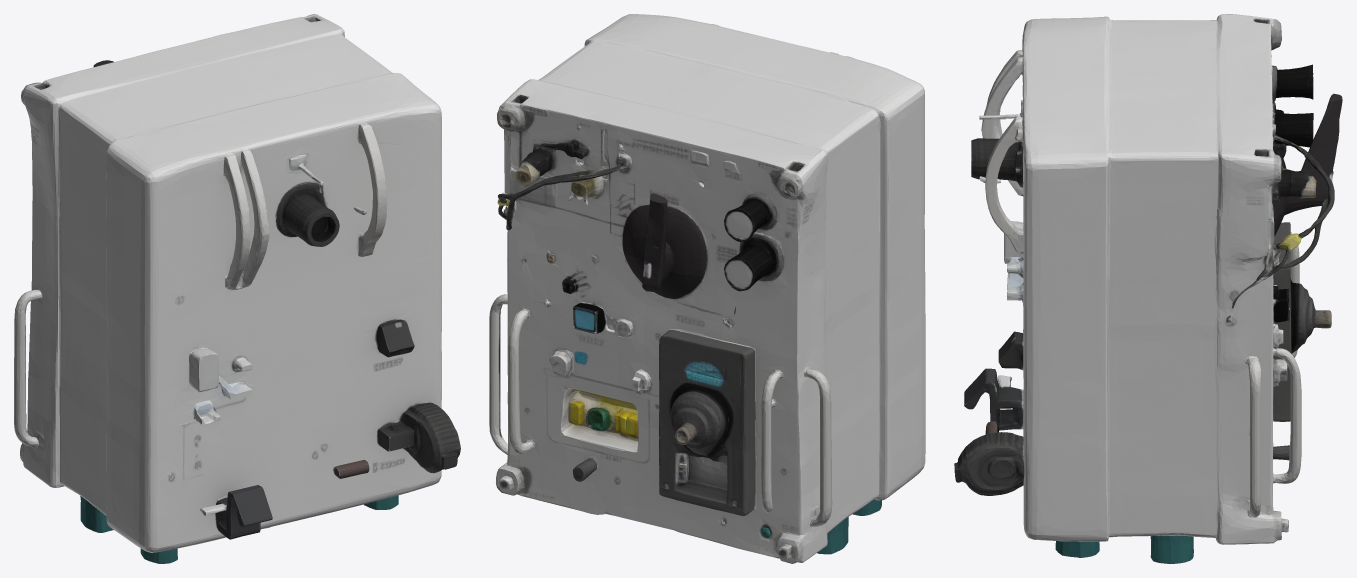
The model's file is WaterDispenser.glb.
The picture shows the model from 3 angles, left to right: view 1: azimuth 30°, elevation 25°; view 2: azimuth 150°, elevation 25°; view 3: azimuth 270°, elevation 25°; orthographic projection.
Parts seen in each view (by area): view 1: world; view 2: world; view 3: world.
Boxes of the visible parts, x1=… form: world: x1=14, y1=14, x2=460, y2=563; world: x1=489, y1=14, x2=925, y2=563; world: x1=954, y1=14, x2=1342, y2=563.
Size of the model in its own units: 0.8441 by 0.9975 by 0.8461.
1 material, 1 textured.
